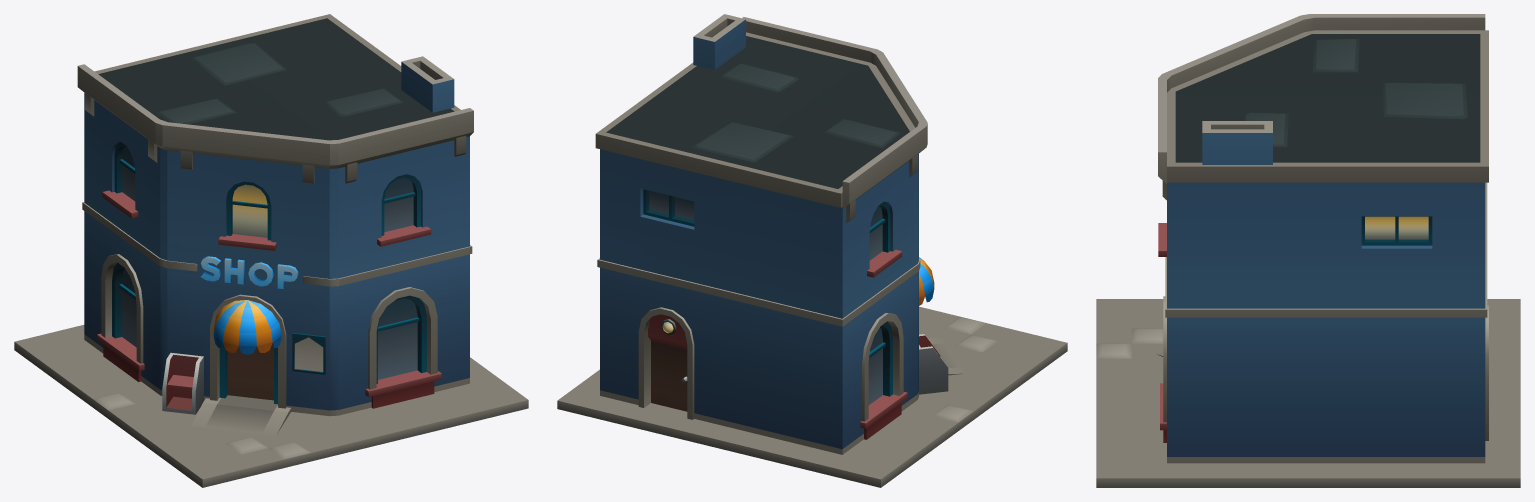
File: Building_6A.fbx
3 views of the same model, side by side, from view 1: azimuth 30°, elevation 25°; view 2: azimuth 150°, elevation 25°; view 3: azimuth 270°, elevation 25° (orthographic). The views are drawn at different scales.
Parts seen in each view (by area): view 1: Building_6A, Window_Lights_6A; view 2: Building_6A; view 3: Building_6A, Window_Lights_6A.
Part boxes in pixels (x1,y1,x2,y2): Building_6A: (14, 14, 528, 487); Window_Lights_6A: (232, 184, 267, 237); Building_6A: (557, 14, 1067, 487); Building_6A: (1096, 14, 1520, 487); Window_Lights_6A: (1365, 216, 1428, 239).
Size of the model in its own units: 1200 by 1060 by 1200.
